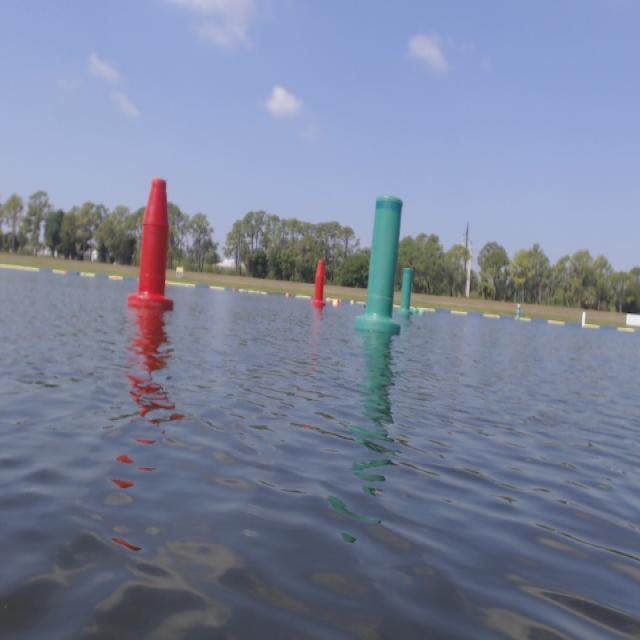Green_Buoy: (362, 195, 401, 331), (400, 270, 419, 313)
Red_Buoy: (136, 175, 170, 318), (312, 262, 328, 307)
